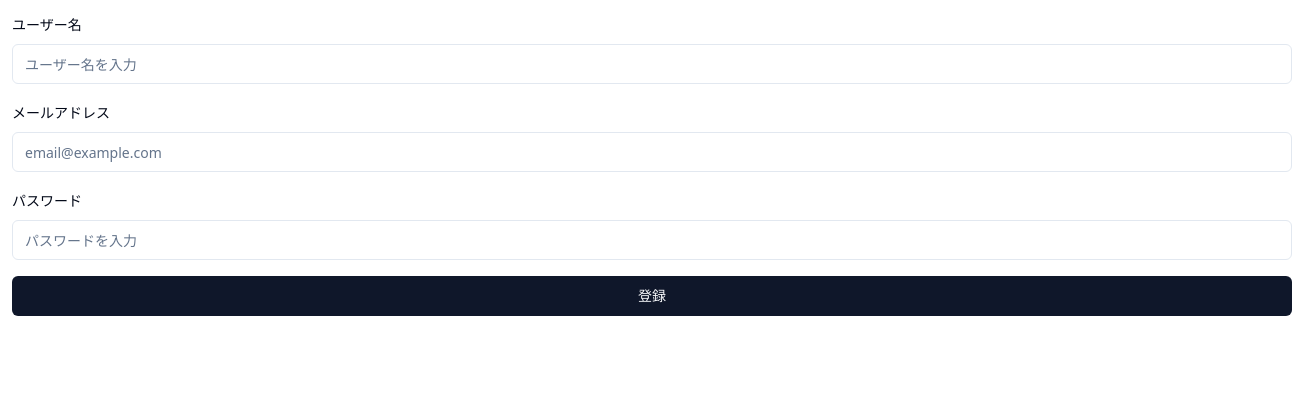
Test: SystemAdminSignUpForm › shows validation errors for empty fields
Click the button "登録": point(652, 296) [12,276,1292,316]
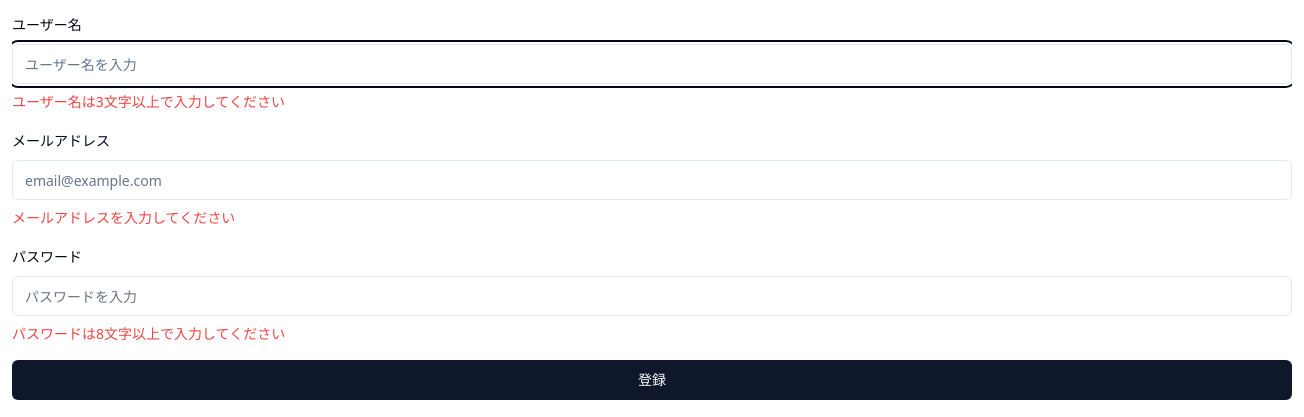
Expected: the text "ユーザー名は3文字以上で入力してください" is shown, [12,92,285,111]
